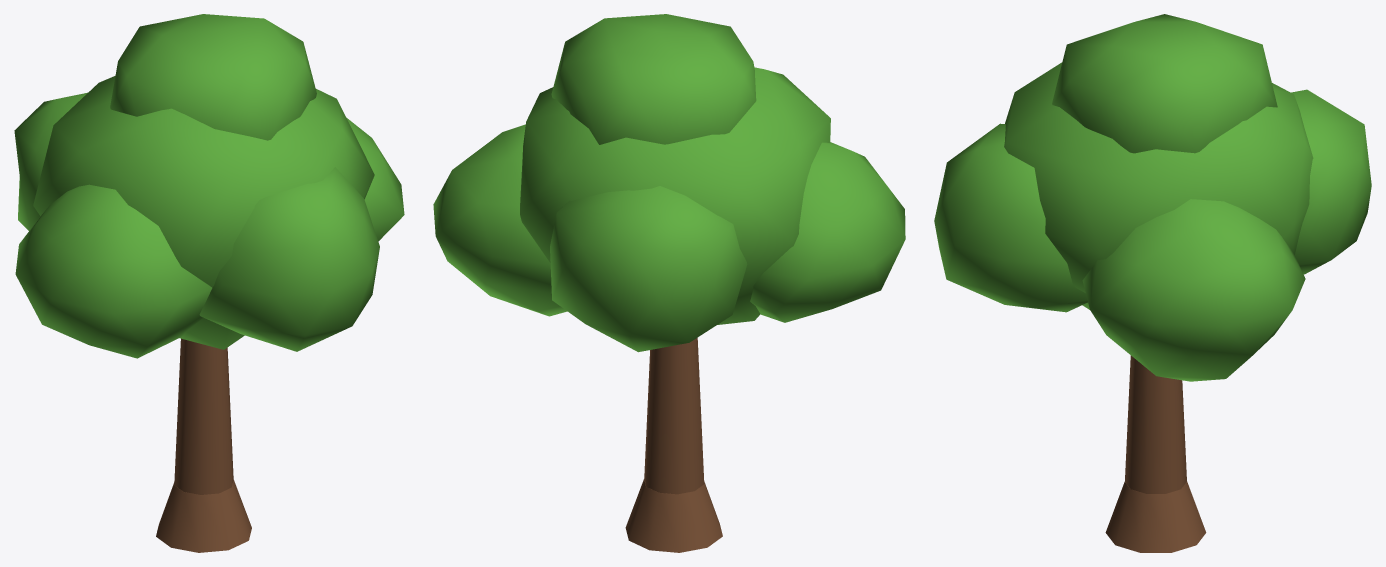
File: tree_1.glb
3 views of the same model, side by side, from view 1: azimuth 30°, elevation 25°; view 2: azimuth 150°, elevation 25°; view 3: azimuth 270°, elevation 25° (orthographic). The views are drawn at different scales.
Visible parts, largest first — view 1: Tree_1; view 2: Tree_1; view 3: Tree_1.
Boxes of the visible parts, left/top/right/bottom form: Tree_1: left=14, top=14, right=404, bottom=552; Tree_1: left=433, top=14, right=905, bottom=552; Tree_1: left=934, top=14, right=1371, bottom=552.
Size of the model in its own units: 5.38 by 6.44 by 5.04.
